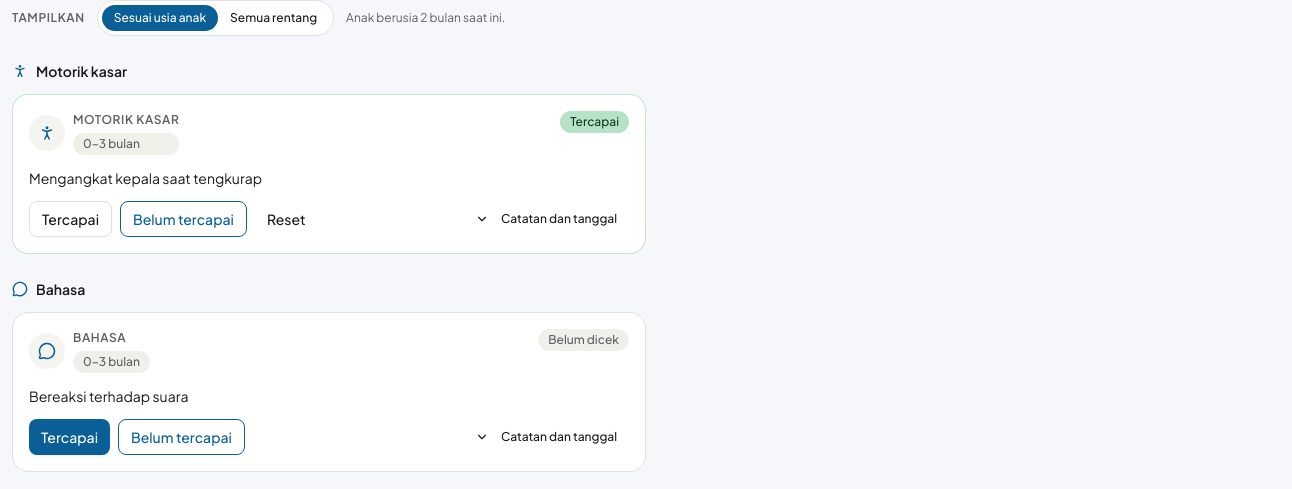
Test: MilestoneChecklist › shows all ranges when the user toggles to 'Semua rentang'
This screenshot has width=1292, height=489.
Click the radio button labelled "Semua rentang" at (274, 18), box [218,5,329,31]
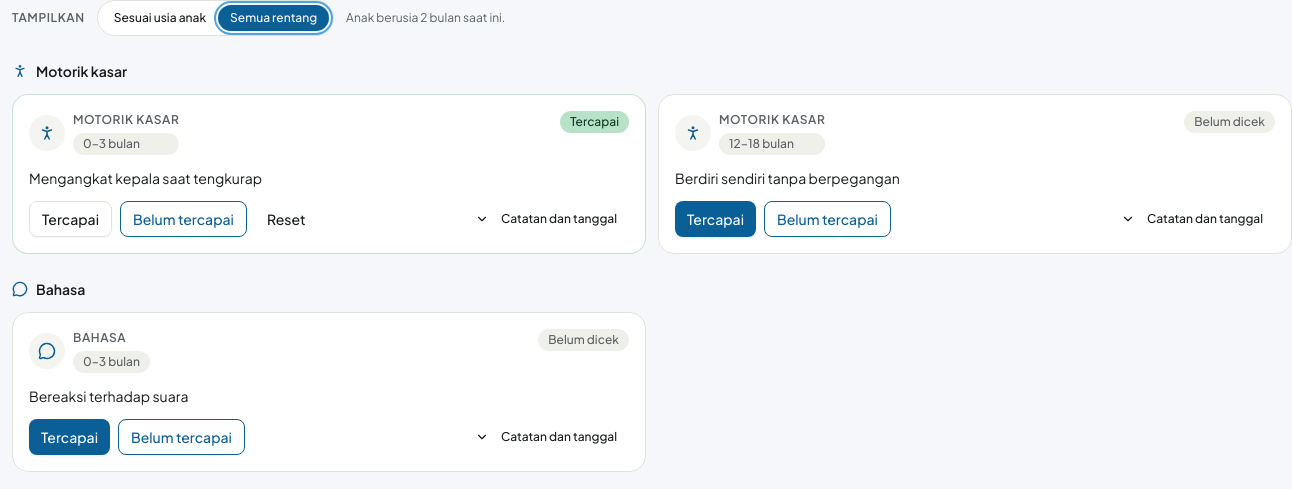
Now the text "Berdiri sendiri tanpa berpegangan" is shown, box [675,169,900,187]
